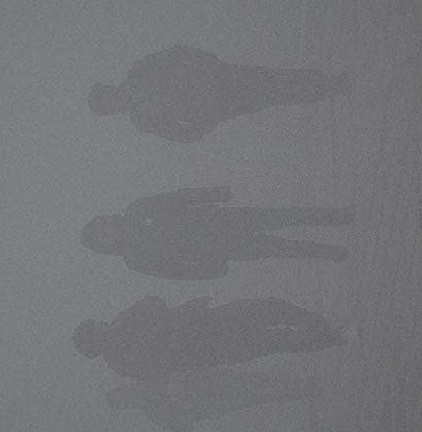person: (78, 185, 357, 281), (89, 42, 353, 140), (69, 294, 366, 375), (103, 375, 351, 432)
